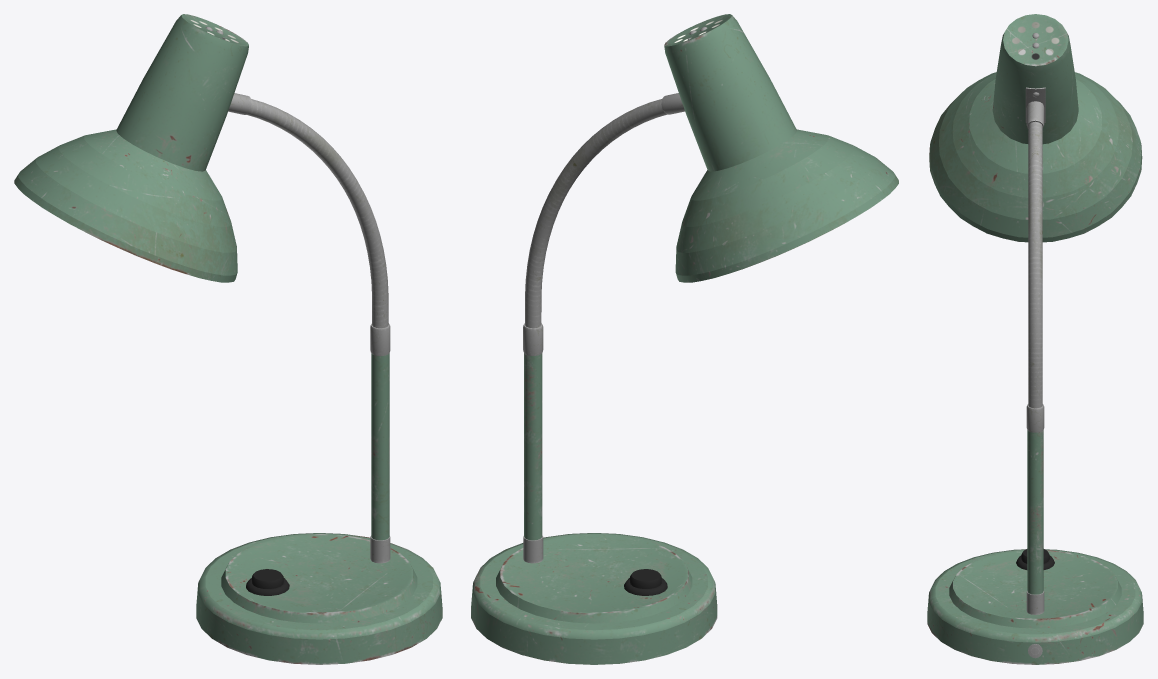
Rendered from old-desk_lamp.glb.
3 renders of one model, left to right at view 1: azimuth 30°, elevation 25°; view 2: azimuth 150°, elevation 25°; view 3: azimuth 270°, elevation 25°, orthographic. The views are drawn at different scales.
Visible parts, largest first — view 1: Cylinder029, Cylinder022, Cylinder028, Cylinder026, Cylinder023; view 2: Cylinder029, Cylinder022, Cylinder028, Cylinder026, Cylinder023; view 3: Cylinder029, Cylinder022, Cylinder028, Cylinder026, Cylinder027, Cylinder031, Cylinder025, Box002, Cylinder023.
Part boxes in pixels (x1,y1,x2,y2): Cylinder029: (14, 14, 248, 282); Cylinder022: (196, 533, 442, 664); Cylinder028: (246, 99, 388, 328); Cylinder026: (371, 353, 389, 540); Cylinder023: (246, 569, 289, 595); Cylinder029: (664, 14, 898, 282); Cylinder022: (471, 533, 717, 664); Cylinder028: (525, 99, 667, 328); Cylinder026: (524, 353, 542, 540); Cylinder023: (624, 569, 667, 595); Cylinder029: (929, 14, 1142, 242); Cylinder022: (927, 549, 1143, 664); Cylinder028: (1028, 121, 1042, 408); Cylinder026: (1027, 430, 1043, 594); Cylinder027: (1026, 404, 1044, 432); Cylinder031: (1026, 101, 1044, 128); Cylinder025: (1026, 591, 1044, 614); Box002: (1025, 87, 1045, 122); Cylinder023: (1016, 549, 1054, 569).
Size of the model in its own units: 43.96 by 66.47 by 23.8.
Materials: 1 (1 with a texture image).
